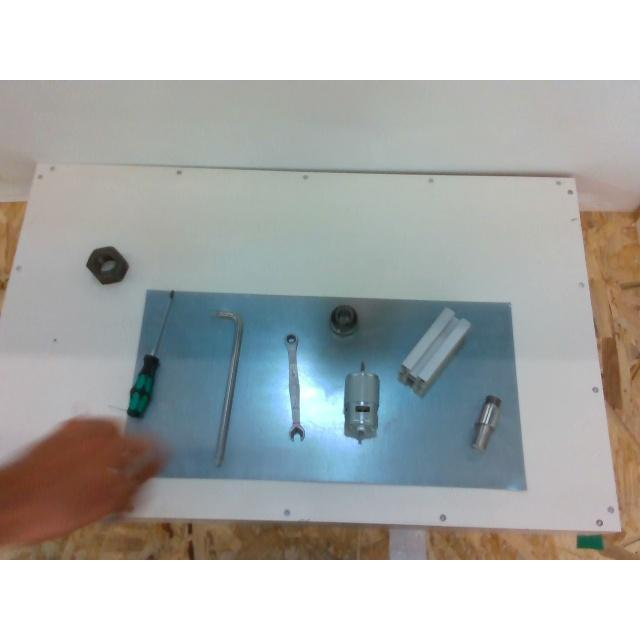AllenKey: (214, 310, 242, 466)
Axis2: (472, 395, 501, 451)
Bearing2: (329, 303, 357, 335)
F20_20_G: (398, 308, 469, 396)
M30: (86, 245, 128, 282)
Motor2: (344, 362, 380, 440)
Screwdriver: (126, 291, 174, 417)
Wrench: (286, 334, 304, 440)
